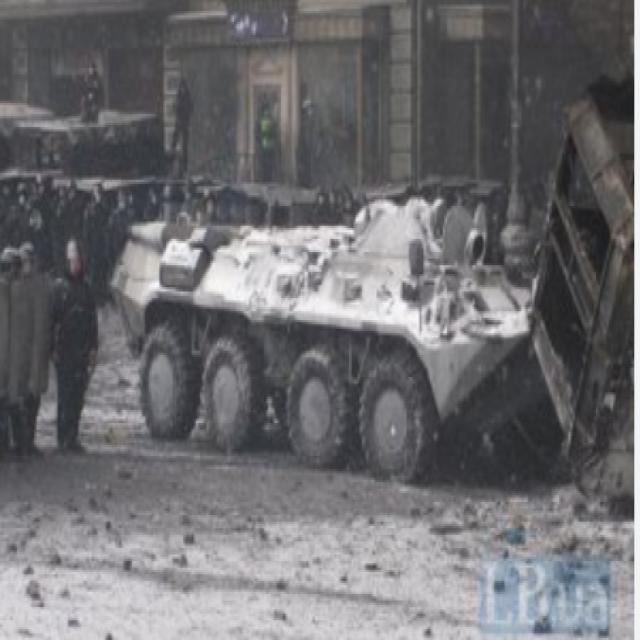MIL_APC: (112, 204, 560, 481)
